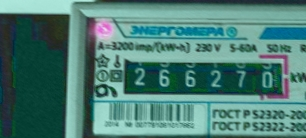0: (258, 67, 273, 87)
2: (131, 63, 145, 85), (208, 66, 222, 86)
6: (156, 65, 169, 86), (182, 66, 196, 85)
7: (234, 66, 245, 85)
screen: (110, 46, 294, 103)
